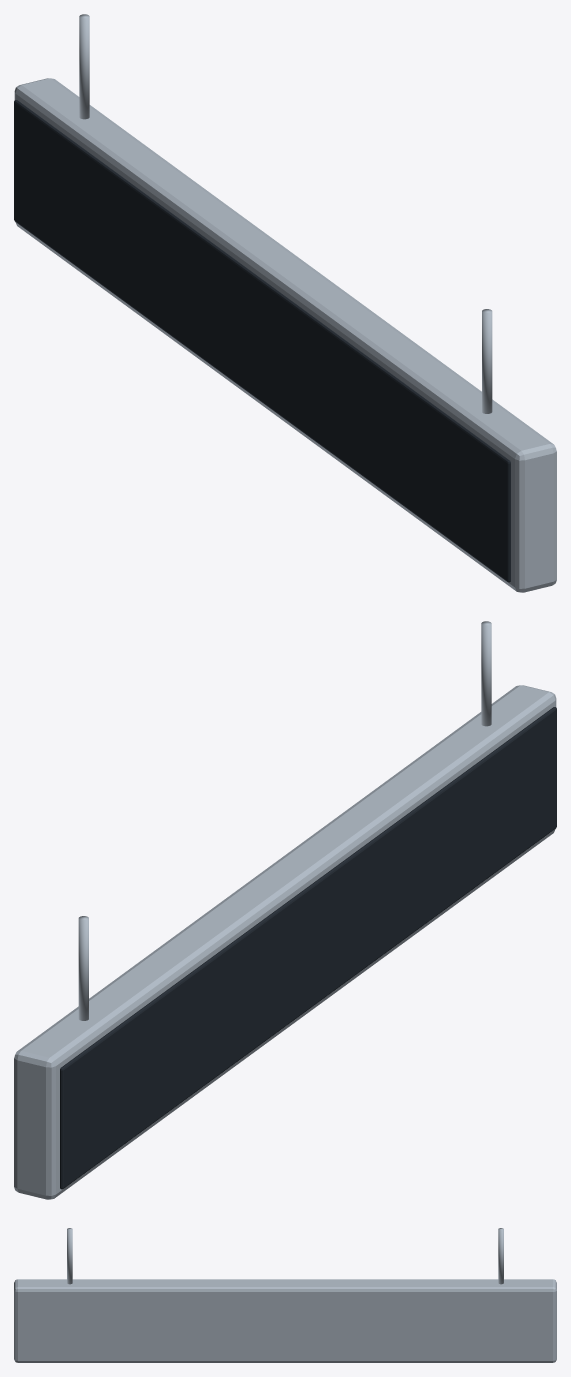
The model's file is vms-body.glb.
The picture shows the model from 3 angles, top to bottom: view 1: azimuth 30°, elevation 25°; view 2: azimuth 150°, elevation 25°; view 3: azimuth 270°, elevation 25°; orthographic projection. The views are drawn at different scales.
Parts seen in each view (by area): view 1: Recessed screen, Weatherproof VMS housing; view 2: Recessed screen, Weatherproof VMS housing; view 3: Weatherproof VMS housing.
Boxes of the visible parts, x1,y1,x2,y2 form: Recessed screen: (14, 100, 510, 582); Weatherproof VMS housing: (14, 14, 556, 592); Recessed screen: (60, 707, 556, 1189); Weatherproof VMS housing: (14, 621, 556, 1199); Weatherproof VMS housing: (14, 1228, 556, 1362).
Bounding box in the file's own units: 0.355 × 1.79 × 6.8.
